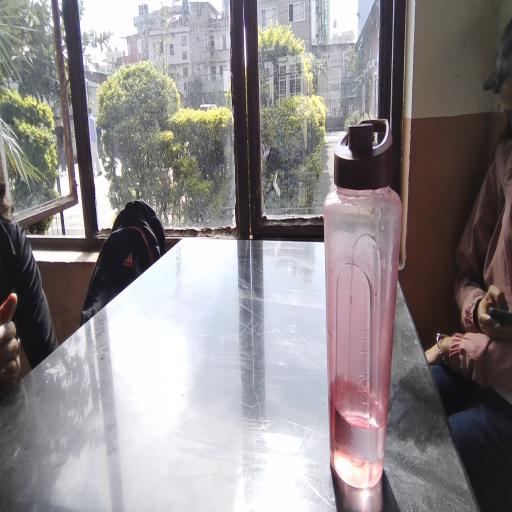Bottle: (323, 131, 412, 486)
